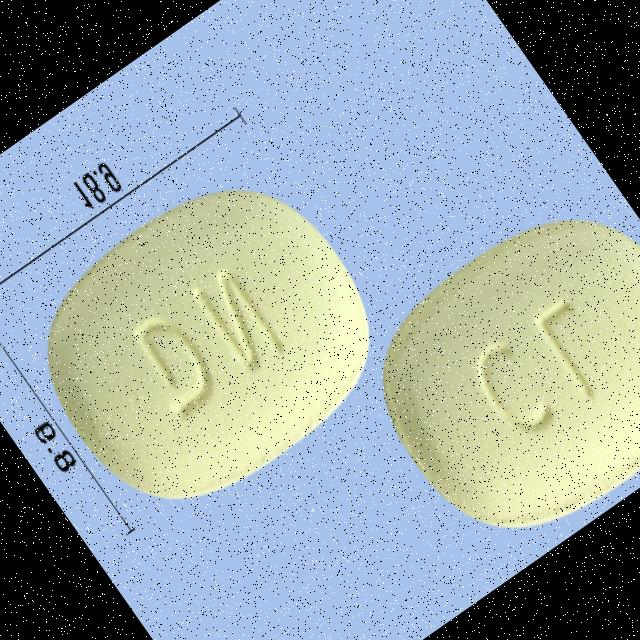Clamacin: (0, 133, 420, 551), (328, 158, 640, 579)
